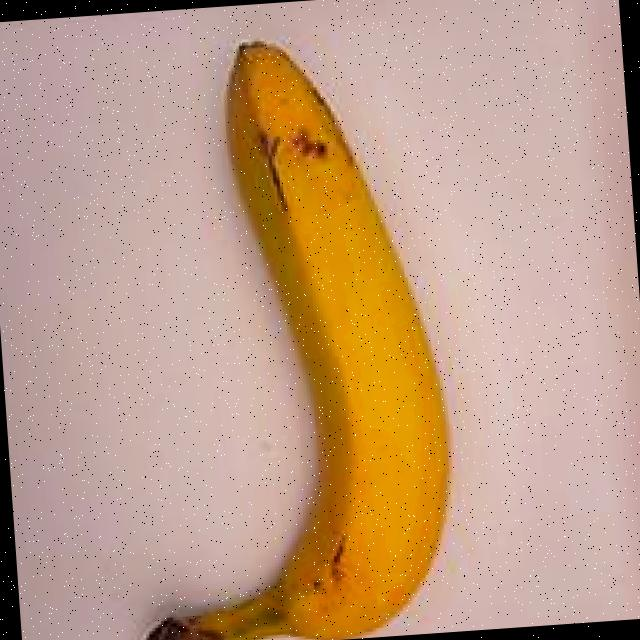Ripe: (48, 8, 491, 640)
